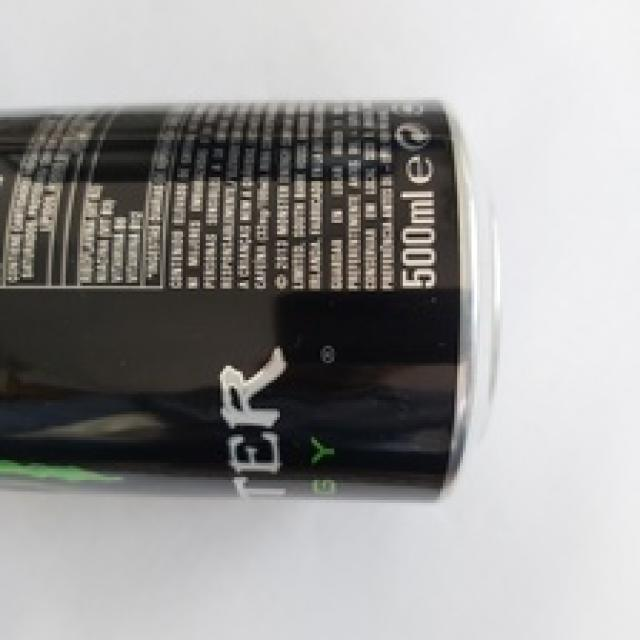recyclable: (0, 97, 502, 505)
